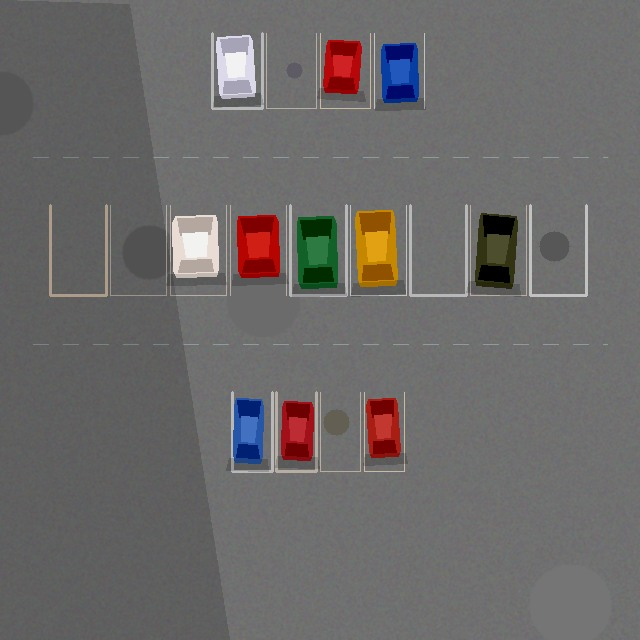space-empty: (50, 205, 106, 295), (110, 205, 166, 295), (410, 205, 466, 295), (530, 205, 586, 295), (266, 33, 316, 108), (320, 392, 360, 471)
space-occupied: (170, 205, 226, 295), (230, 205, 286, 295), (290, 205, 346, 295), (350, 205, 406, 295), (470, 205, 526, 295), (212, 33, 262, 108), (320, 33, 370, 108), (374, 33, 424, 108), (232, 392, 272, 471), (276, 392, 316, 471), (364, 392, 404, 471)
